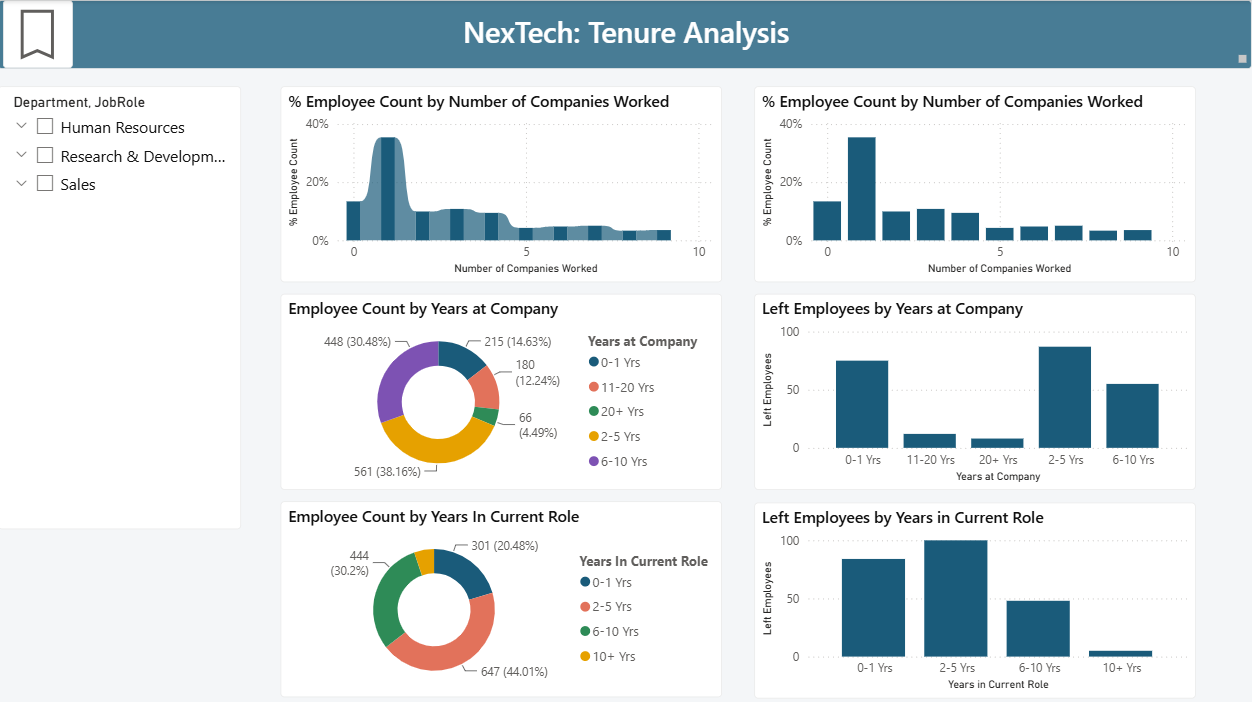

The dashboard page shown, as its layout file describes it:
{"tool":"powerbi","page":{"name":"Tenure","canvas":[1280,720],"ordinal":6},"visuals":[{"type":"ribbonChart","fields":{"Category":["Survey Input.NumCompaniesWorked"],"Y":["Divide(Sum(Survey Input.EmployeeCount), ScopedEval(Sum(Survey Input.EmployeeCount), []))"]},"box":[288.3,88.6,450,200],"z":0},{"type":"clusteredColumnChart","title":"% Employee Count by Number of Companies Worked","fields":{"Category":["Survey Input.NumCompaniesWorked"],"Y":["Divide(Sum(Survey Input.EmployeeCount), ScopedEval(Sum(Survey Input.EmployeeCount), []))"]},"box":[772,88.3,450,200],"z":1000},{"type":"textbox","title":"NexTech: Tenure Analysis","box":[0,0,1279.8,70],"z":2000},{"type":"slicer","fields":{"Values":["Survey Input.Department","Survey Input.JobRole"]},"box":[0,88.4,247.7,452.3],"z":3000},{"type":"donutChart","fields":{"Category":["Survey Input.YearsAtCompanyBins"],"Y":["Sum(Survey Input.EmployeeCount)"]},"box":[288.3,299.6,450,200],"z":4000},{"type":"clusteredColumnChart","fields":{"Category":["Survey Input.YearsAtCompanyBins"],"Y":["All_Measures.Left Employees"]},"box":[772,299.4,450,200],"z":5000},{"type":"donutChart","fields":{"Category":["Survey Input.YearsInCurrentRoleBins"],"Y":["Sum(Survey Input.EmployeeCount)"]},"box":[288.3,511.9,450.3,200],"z":6000},{"type":"clusteredColumnChart","fields":{"Y":["All_Measures.Left Employees"],"Category":["Survey Input.YearsInCurrentRoleBins"]},"box":[772,512.9,450.3,200],"z":7000},{"type":"actionButton","box":[4.9,0,71.2,69.9],"z":8000}]}

Visuals, with their boxes on the page's 1280x720 design canvas (x1, y1, x2, y2). These are canvas units, not pixel positions in the 1252x702 screenshot, which may show the page scaled, cropped or inside an application window:
ribbonChart - Survey Input.NumCompaniesWorked x Divide(Sum(Survey Input.EmployeeCount), ScopedEval(Sum(Survey Input.EmployeeCount), [])): <box>288,89,738,289</box>
"% Employee Count by Number of Companies Worked" clusteredColumnChart: <box>772,88,1222,288</box>
"NexTech: Tenure Analysis" textbox: <box>0,0,1280,70</box>
slicer - Survey Input.Department x Survey Input.JobRole: <box>0,88,248,541</box>
donutChart - Survey Input.YearsAtCompanyBins x Sum(Survey Input.EmployeeCount): <box>288,300,738,500</box>
clusteredColumnChart - Survey Input.YearsAtCompanyBins x All_Measures.Left Employees: <box>772,299,1222,499</box>
donutChart - Survey Input.YearsInCurrentRoleBins x Sum(Survey Input.EmployeeCount): <box>288,512,739,712</box>
clusteredColumnChart - All_Measures.Left Employees x Survey Input.YearsInCurrentRoleBins: <box>772,513,1222,713</box>
actionButton: <box>5,0,76,70</box>
